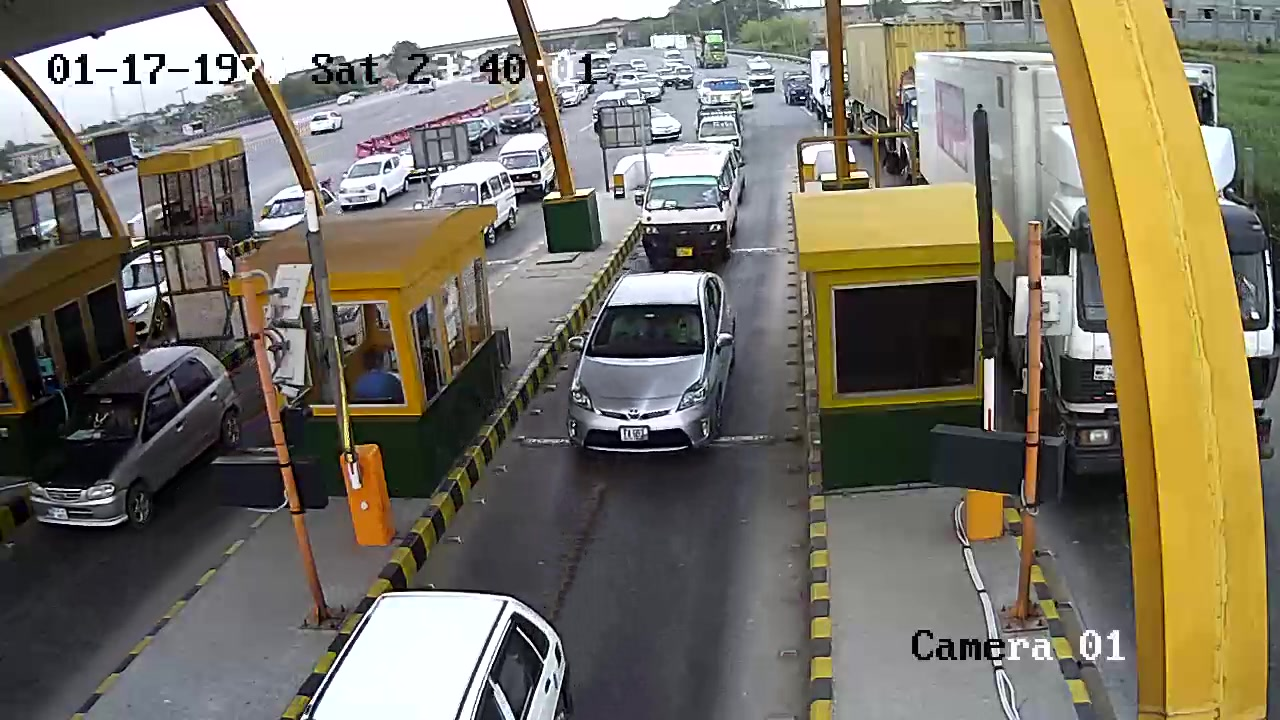F1: (549, 269, 777, 466)
